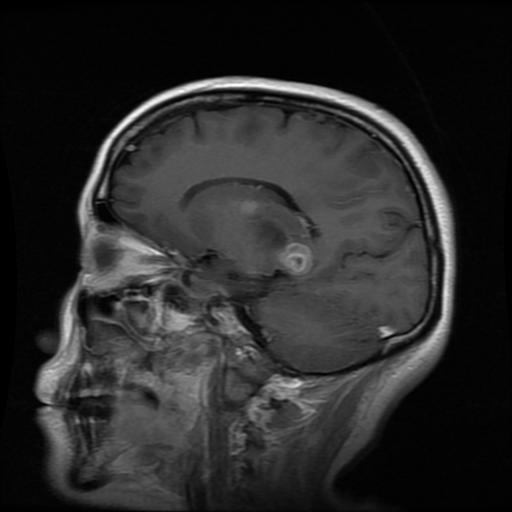Gliomia_tumour: (278, 242, 312, 273)
